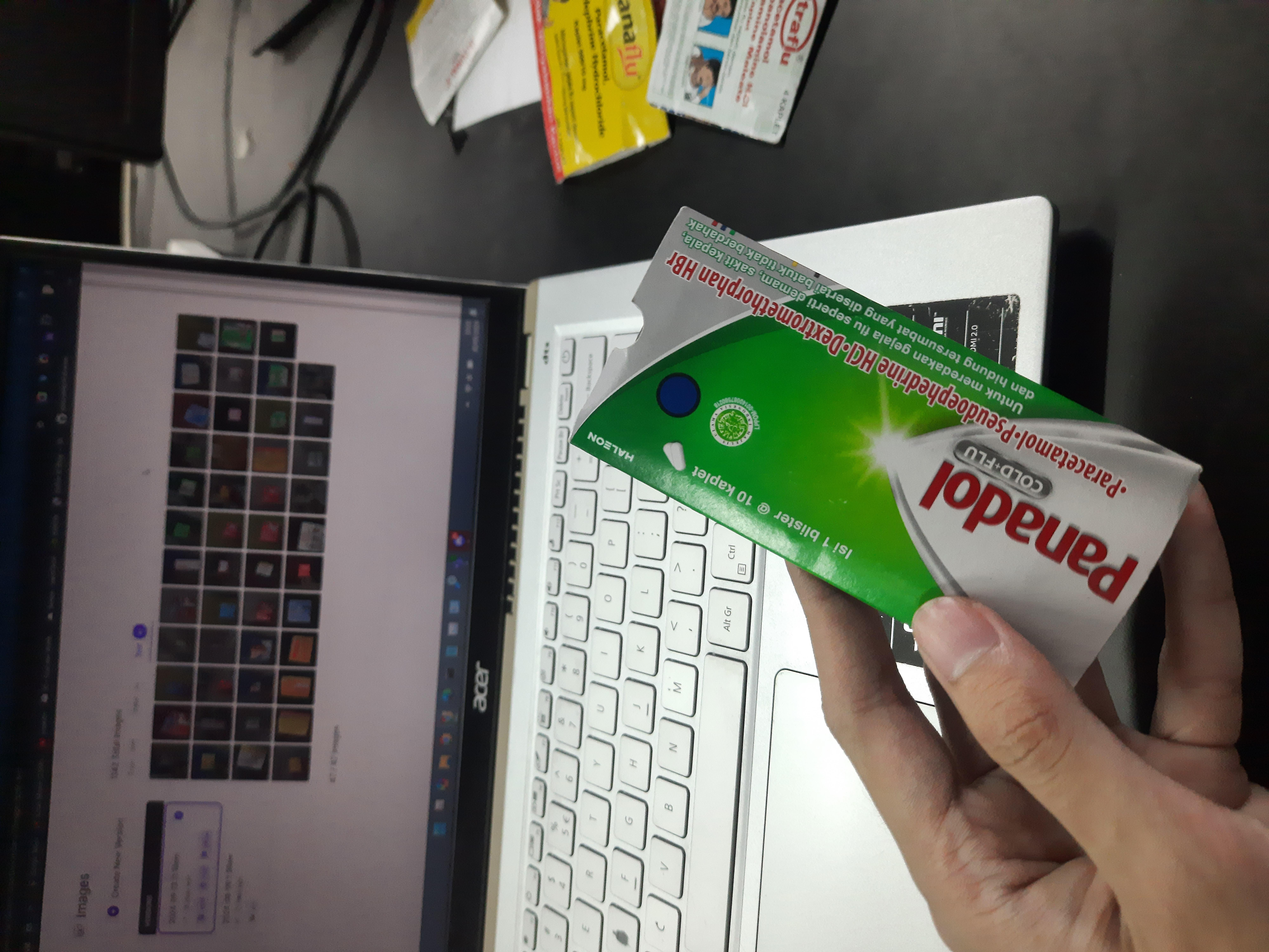Panadol Cold Flu: (352, 426, 994, 902)
